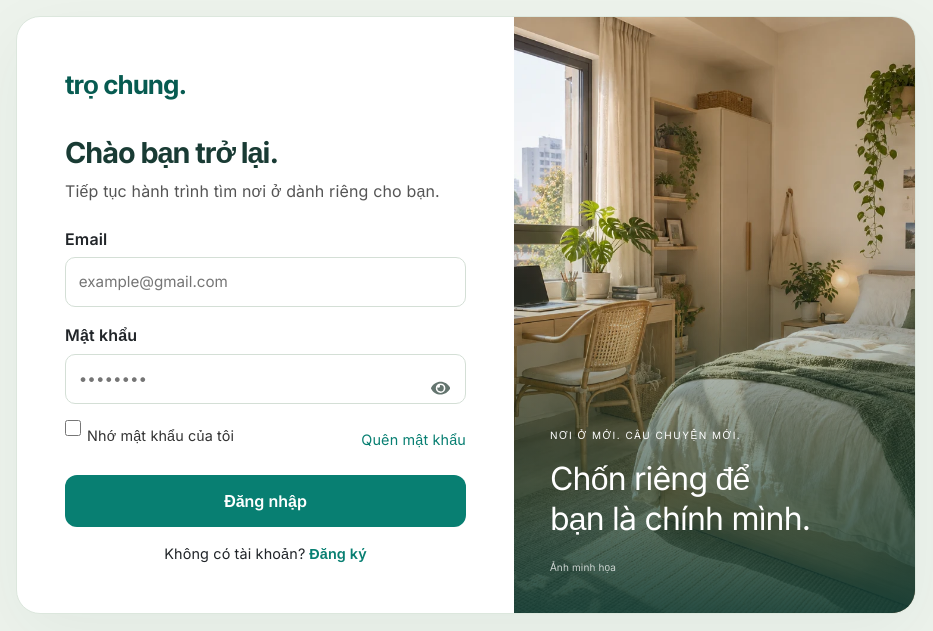
Scenario: password visibility control does not submit the form or clear its value
Type "example-only" into the password field labelled "Mật khẩu" at (266, 379), box [65,354,466,404]
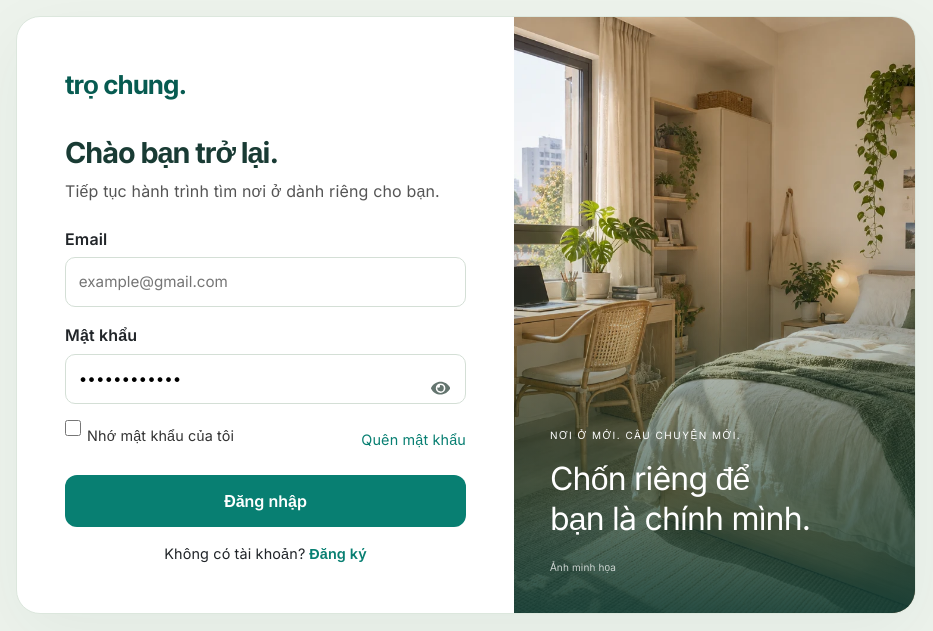
Click the button named "Hiện mật khẩu" at (440, 387), box [427,369,454,405]
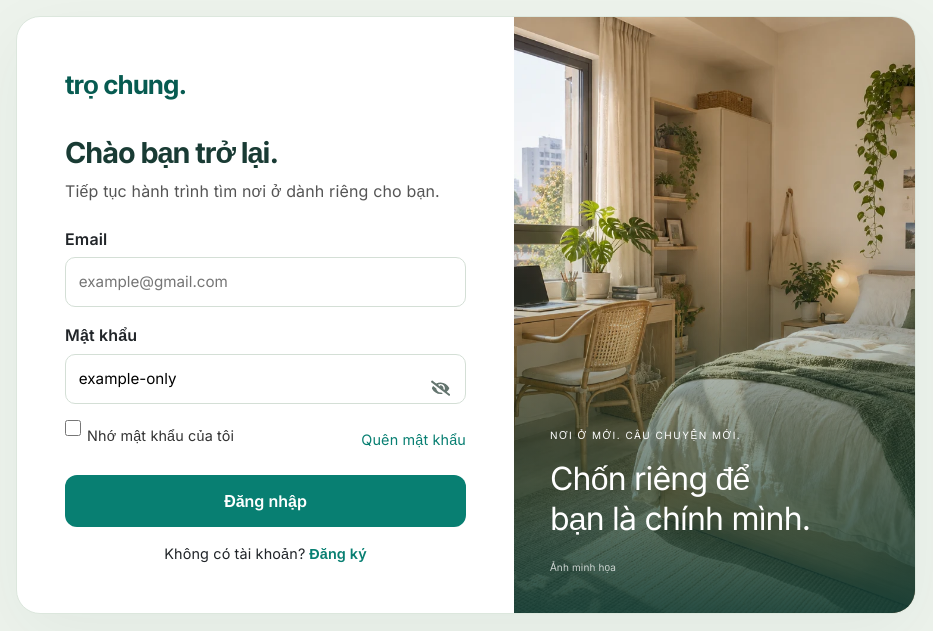
Expected: the field labelled "Mật khẩu" shows its text, [65,354,466,404]
Click the button named "Ẩn mật khẩu" at (440, 387), box [427,369,454,405]
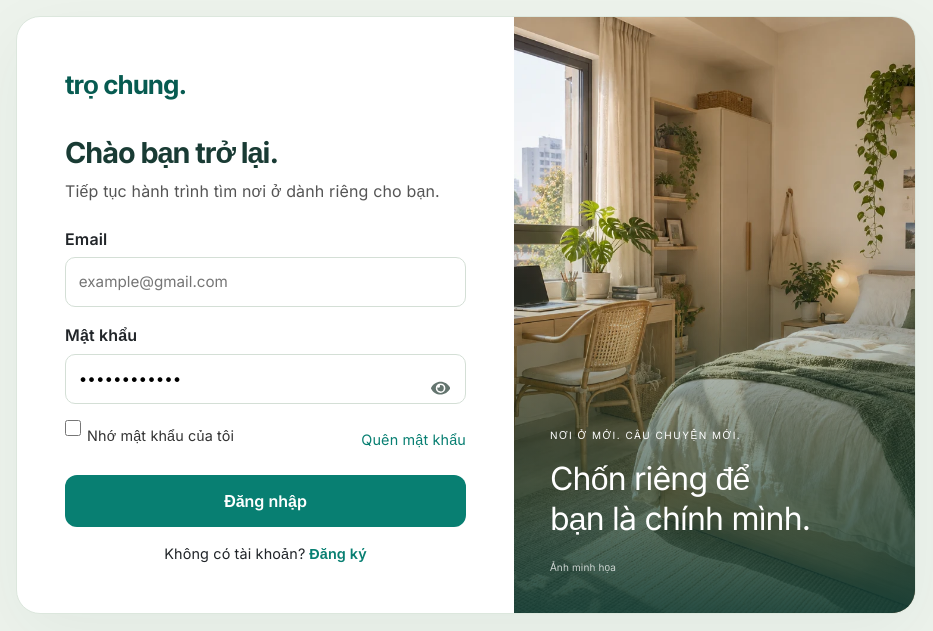
Expected: the password field labelled "Mật khẩu" hides its text, [65,354,466,404]
